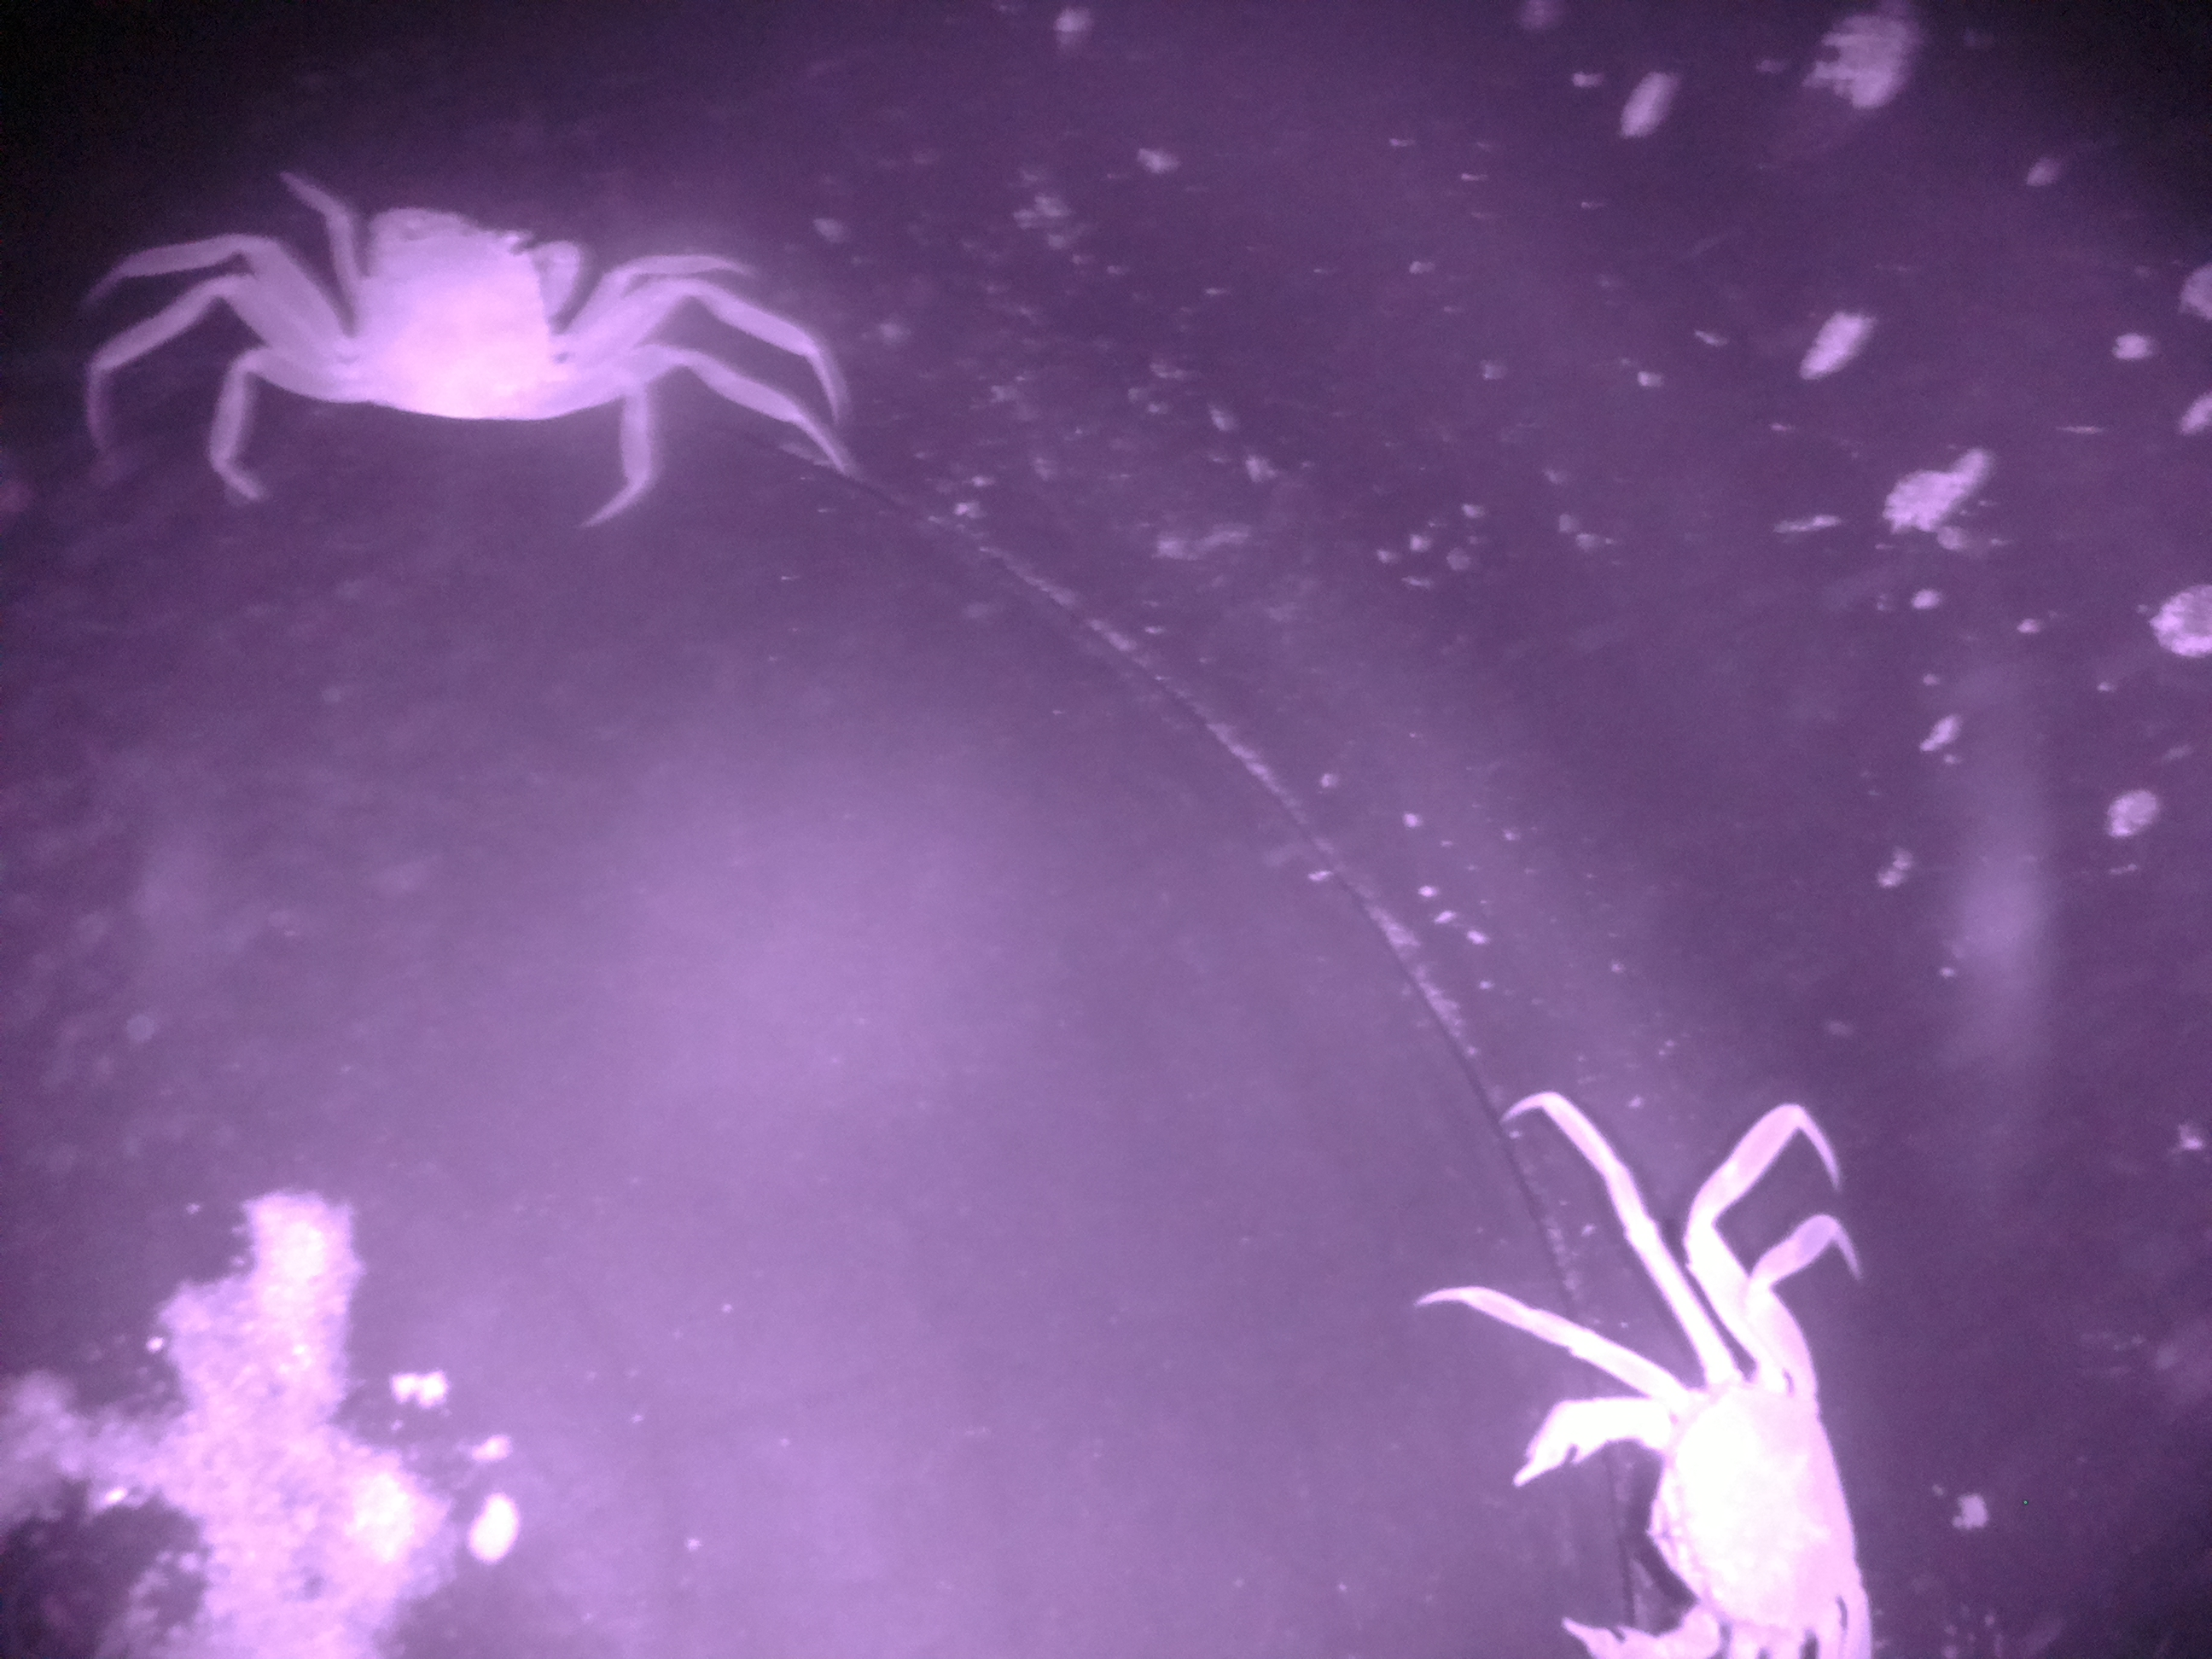Crab: (64, 155, 853, 544)
